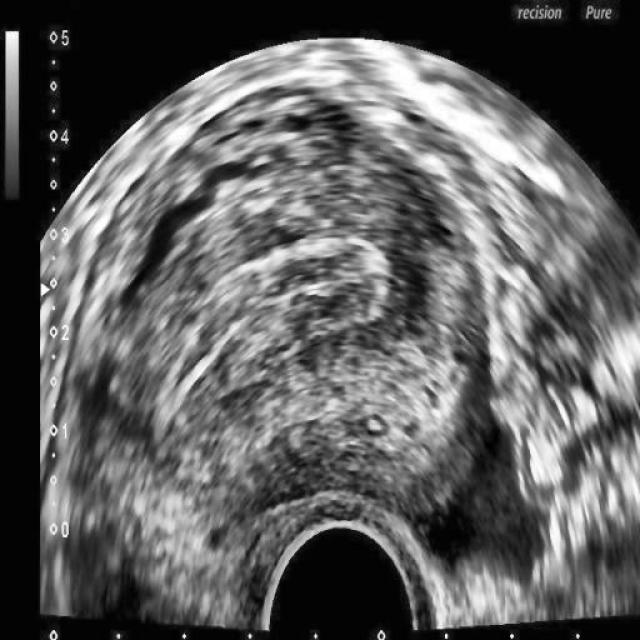non-viable embryo: (35, 35, 639, 639)
